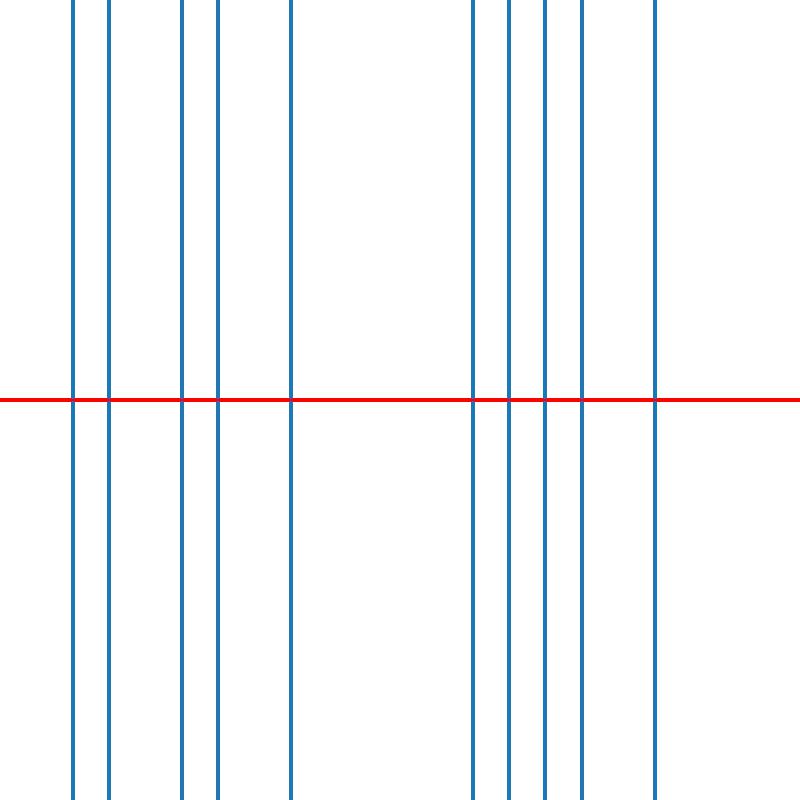root: (650, 396, 658, 404), (541, 396, 549, 404), (105, 396, 112, 404), (287, 396, 294, 404), (69, 396, 76, 404), (178, 396, 185, 404), (578, 396, 585, 404), (469, 396, 476, 404), (214, 396, 221, 404), (505, 396, 512, 404)
